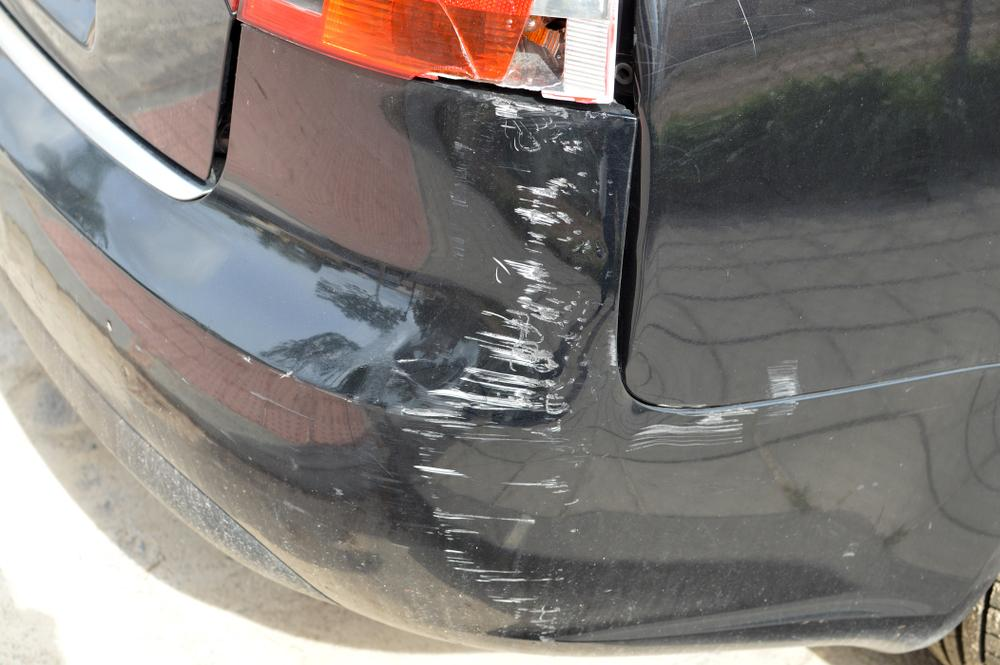lamp broken: (240, 0, 619, 108)
scratch: (398, 98, 802, 640), (766, 355, 807, 401)
